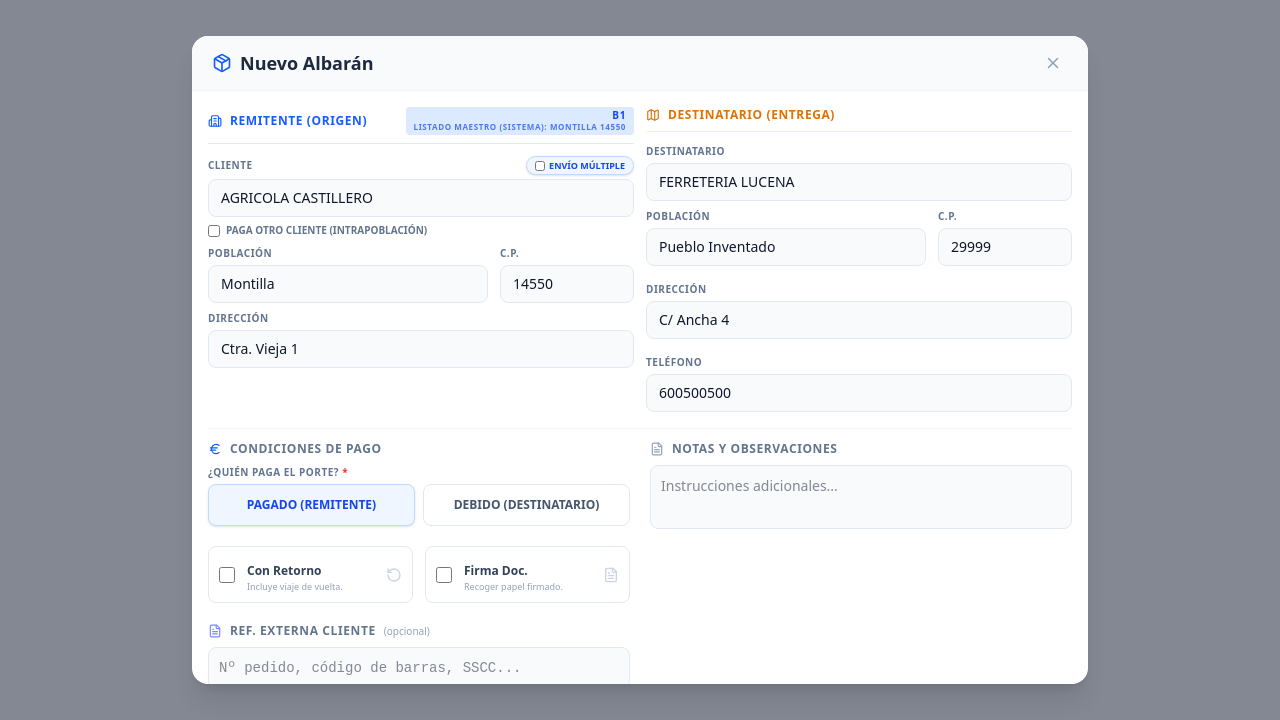
Scenario: CreateShipmentModal — aviso de población fuera de baremo › ENTENDIDO pasa a la ventana de cobro con el albarán que ya estaba montado
Type "1 caja" into the text box with placeholder "Instrucciones adicionales..." at (861, 497), box [650,465,1072,529]
(page scrolled)
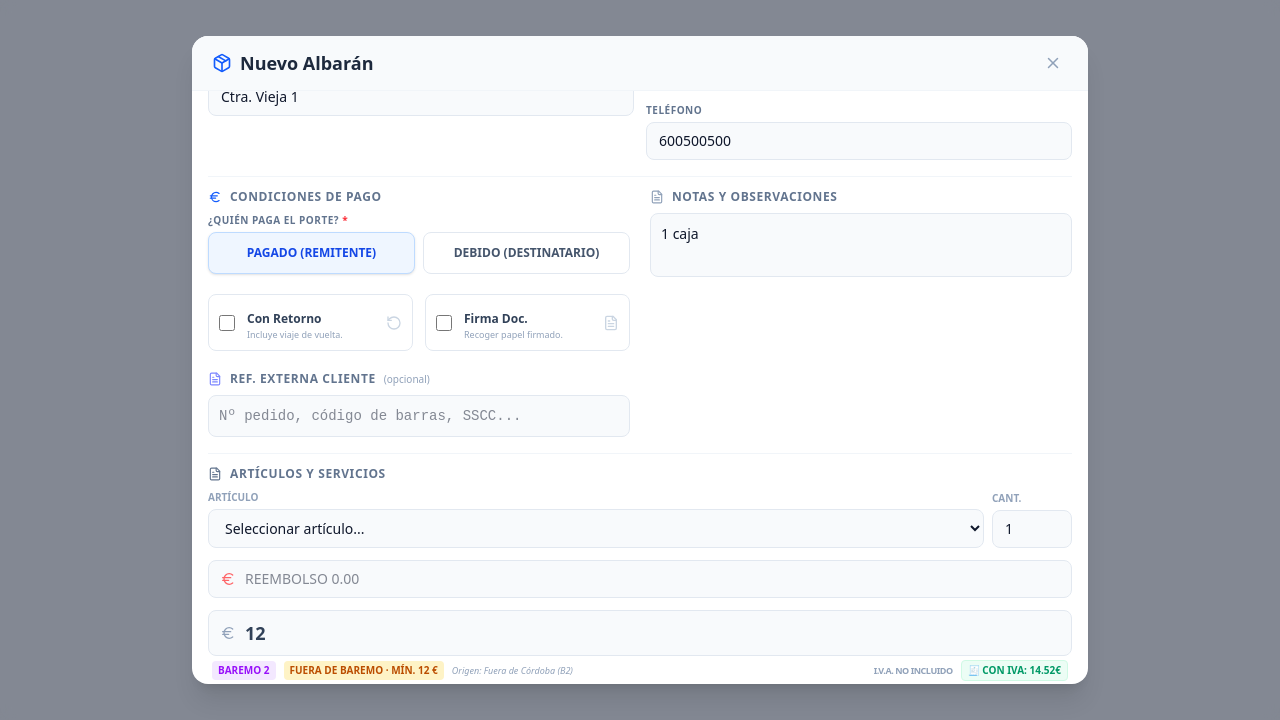
Submit the text "Generar Albarán"
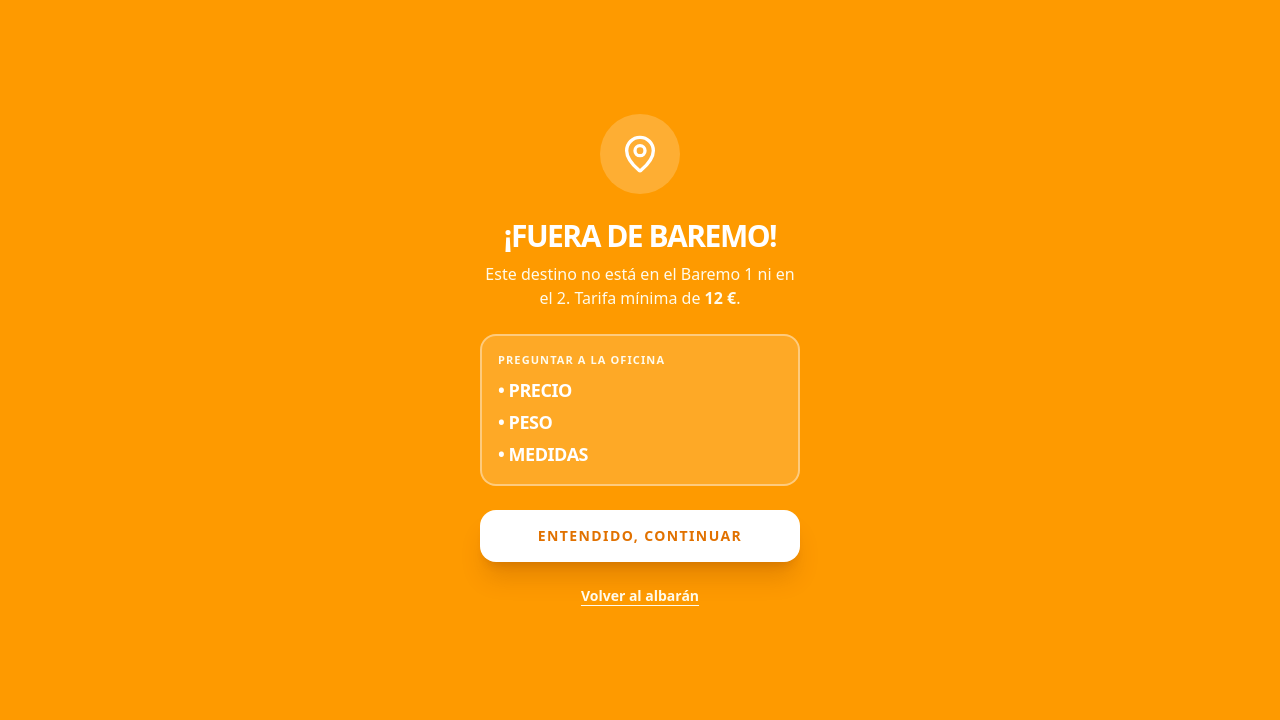
Check: the heading "¡Fuera de Baremo!" is shown, box [480,218,800,254]
Click the button "ENTENDIDO, CONTINUAR" at (640, 536), box [480,510,800,562]
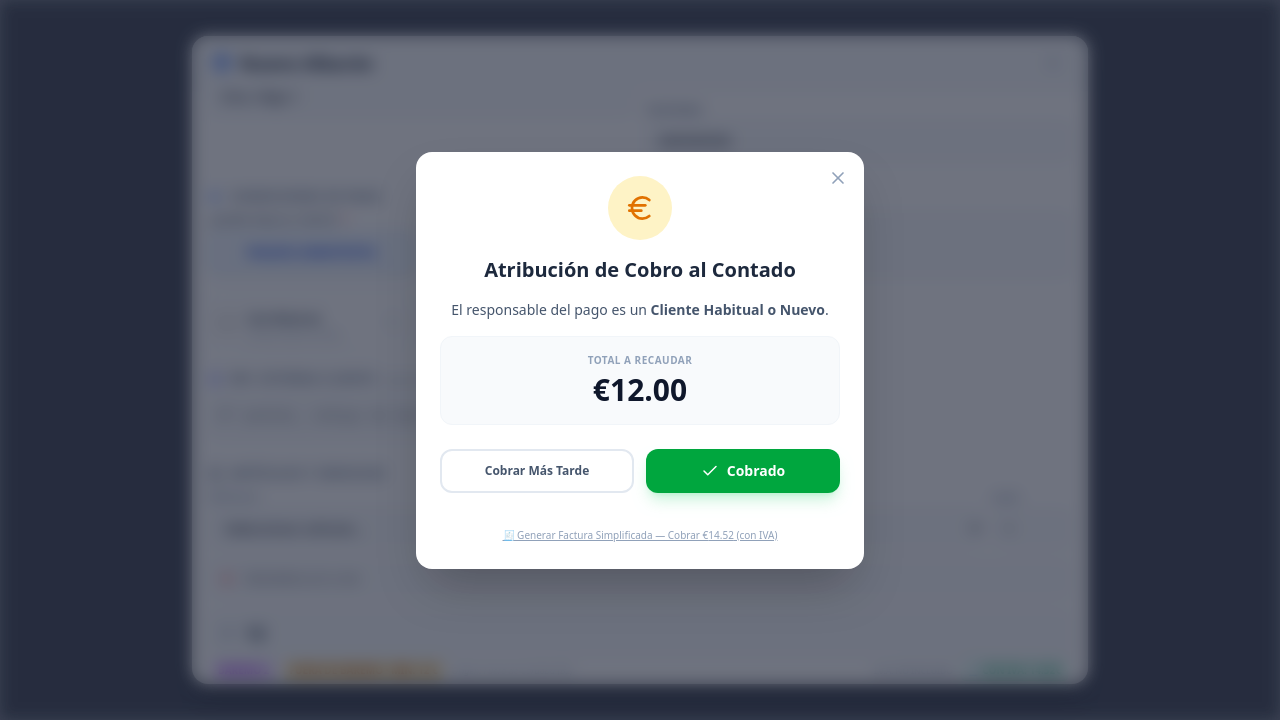
Check: the heading "Atribución de Cobro al Contado" is shown, box [484,256,796,282]
Check: the heading "¡Fuera de Baremo!" is gone
